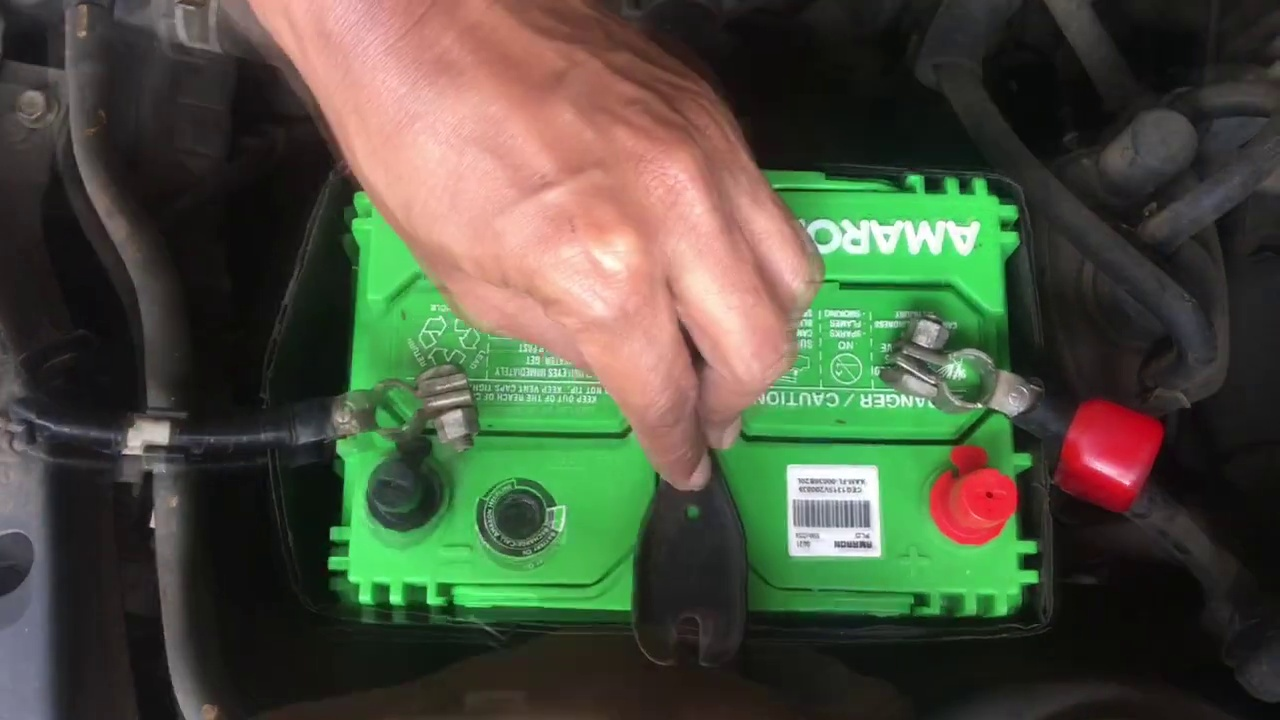battery: (328, 193, 1045, 633)
neg_disconnected: (293, 362, 494, 543)
pos_disconnected: (880, 302, 1136, 573)
